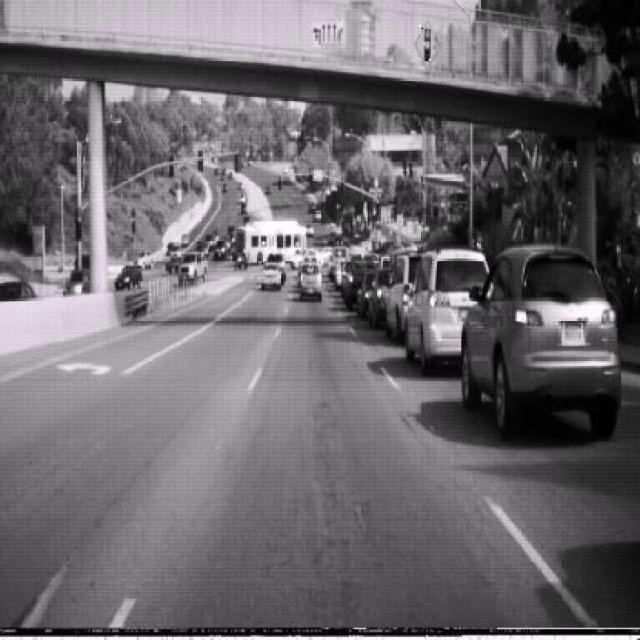signalAhead: (414, 19, 439, 70)
